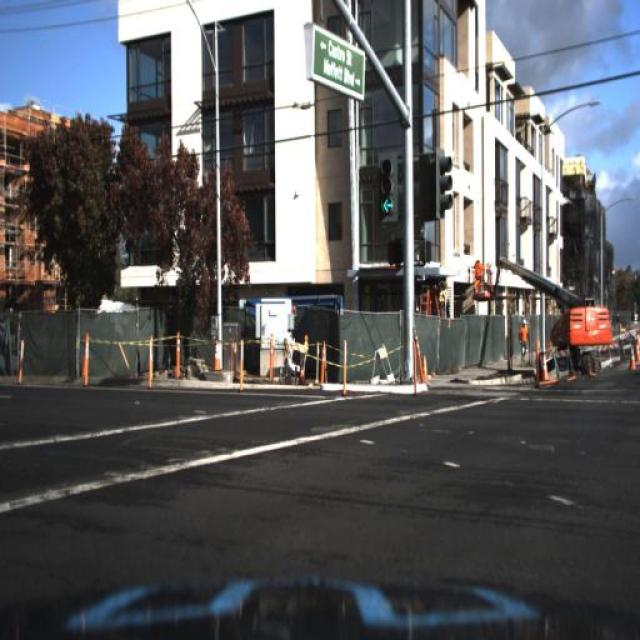trafficLight: (518, 318, 528, 364), (472, 254, 483, 294)
trafficLight-Red: (374, 160, 400, 236), (380, 152, 398, 223)
